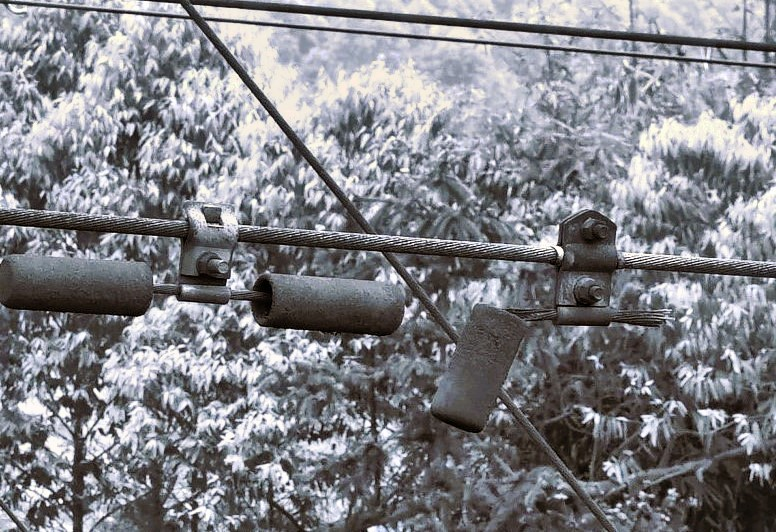Damage of shockproof hammer: (417, 195, 681, 449)
